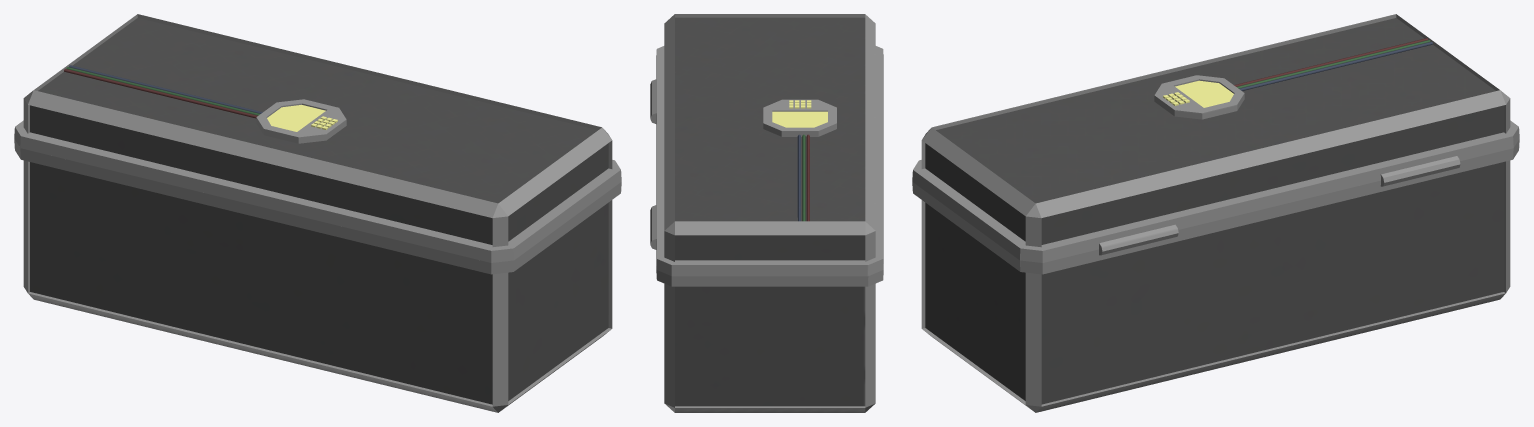
The model's file is Locked_Crate_Closed_08.fbx.
3 renders of one model, left to right at view 1: azimuth 30°, elevation 25°; view 2: azimuth 150°, elevation 25°; view 3: azimuth 270°, elevation 25°, orthographic. The views are drawn at different scales.
Parts seen in each view (by area): view 1: Locked_Crate_Closed_08; view 2: Locked_Crate_Closed_08; view 3: Locked_Crate_Closed_08.
Boxes of the visible parts, x1=… form: Locked_Crate_Closed_08: x1=14, y1=14, x2=621, y2=412; Locked_Crate_Closed_08: x1=650, y1=14, x2=883, y2=412; Locked_Crate_Closed_08: x1=912, y1=14, x2=1519, y2=412.
Bounding box in the file's own units: 604 × 292 × 752.
